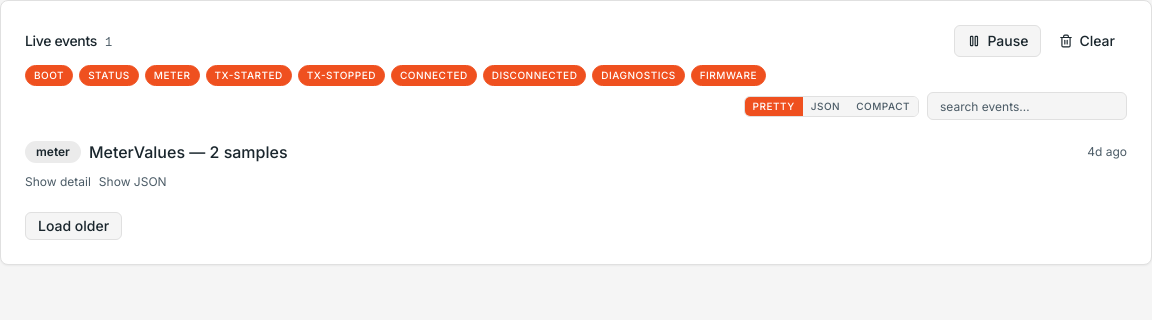
DeviceEventsPanel — detail toggle › expands and collapses on click
Click the button with test id "device-events-toggle": point(58, 182) [25,174,91,190]
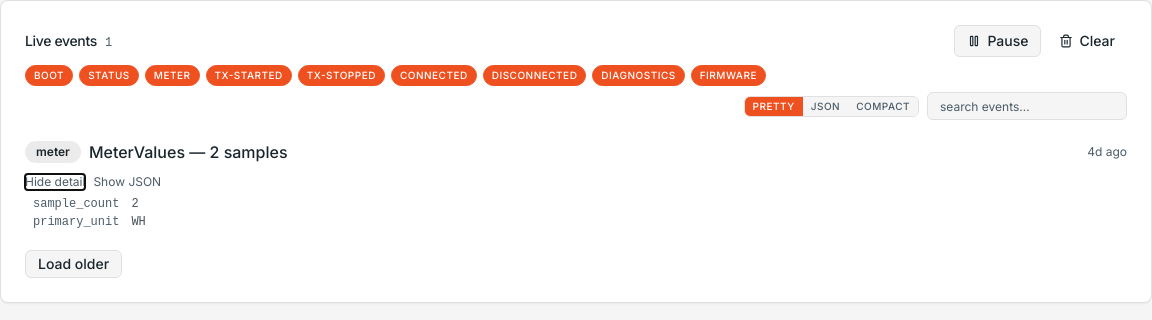
Now the element with test id "device-events-detail" shows "sample_count", box [33,197,119,211]
Now the element with test id "device-events-detail" shows "2", box [131,197,139,211]
Click the button with test id "device-events-toggle": point(55, 182) [25,174,85,190]
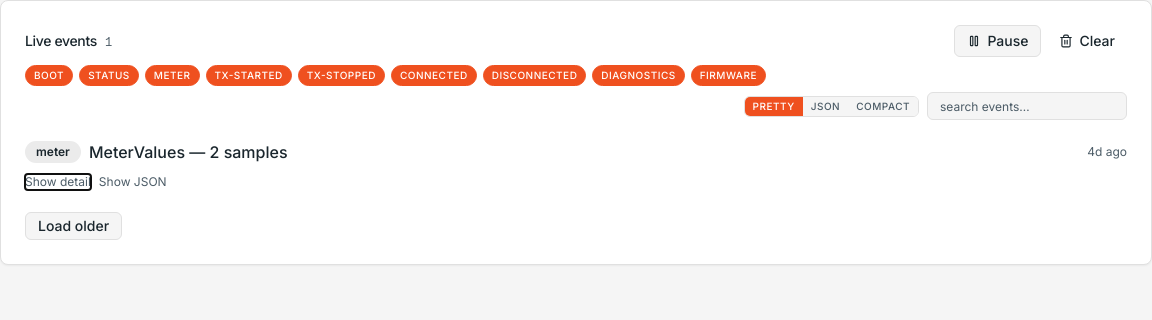
Now the element with test id "device-events-detail" is gone
